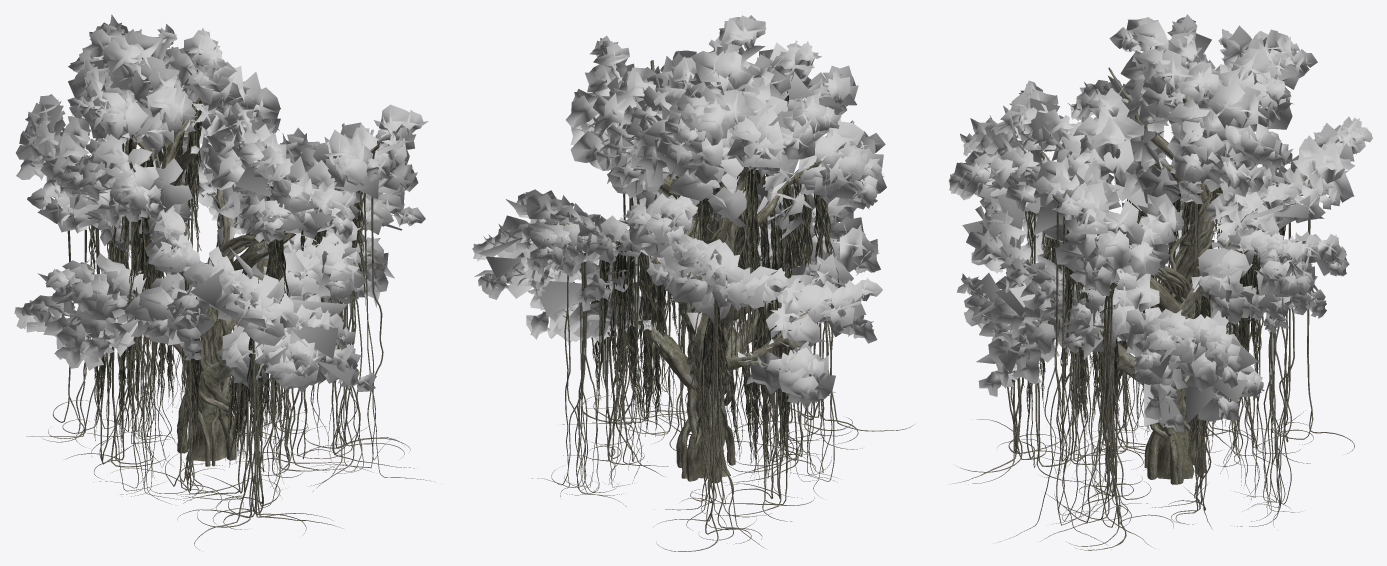
The model's file is ChineseBanyan_Med.fbx.
The picture shows the model from 3 angles, left to right: view 1: azimuth 30°, elevation 25°; view 2: azimuth 150°, elevation 25°; view 3: azimuth 270°, elevation 25°; orthographic projection. The views are drawn at different scales.
Parts seen in each view (by area): view 1: ChineseBanyan_Med; view 2: ChineseBanyan_Med; view 3: ChineseBanyan_Med.
Boxes of the visible parts, x1,y1,x2,y2 form: ChineseBanyan_Med: (14, 14, 433, 550); ChineseBanyan_Med: (472, 15, 914, 551); ChineseBanyan_Med: (948, 14, 1372, 550).
Bounding box in the file's own units: 17.83 × 17.67 × 20.28.
